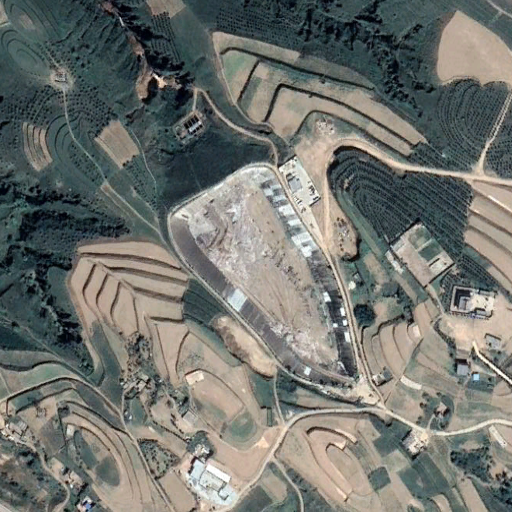lf: (166, 160, 361, 389)
